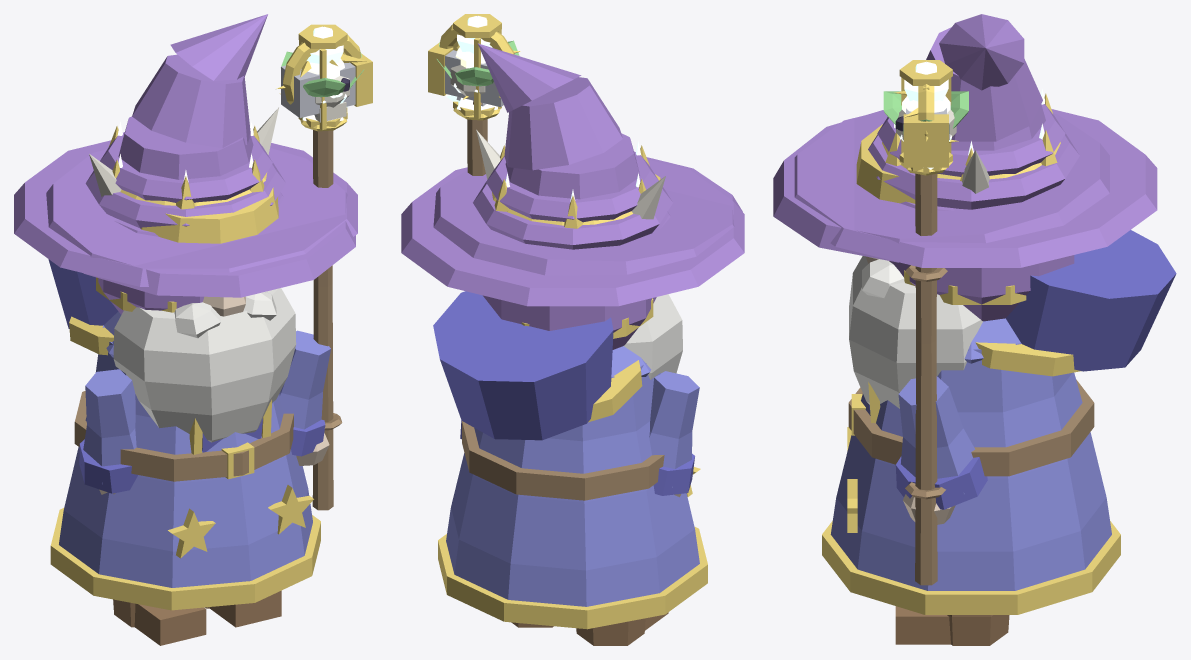
File: wizard.glb
The picture shows the model from 3 angles, left to right: view 1: azimuth 30°, elevation 25°; view 2: azimuth 150°, elevation 25°; view 3: azimuth 270°, elevation 25°; orthographic projection. The views are drawn at different scales.
Visible parts, largest first — view 1: Robe, Beard, Brim, HV_WideBrim, HatCone2, Hem, Belt, HatCone, Staff, ArmL, HV_Turban3, HatTip (+22 smaller); view 2: Robe, Collar, HV_WideBrim, Brim, HatCone2, Hem, Belt, HV_Turban2, HatCone, HV_Turban3, ArmL, HV_Hood (+14 smaller); view 3: Robe, HV_WideBrim, Collar, Brim, Beard, Hem, Staff, Belt, HV_Turban2, HatTip, HatCone2, HV_Hood (+16 smaller).
Part boxes in pixels (left/top/right/bottom): Robe: left=59, top=325, right=312, bottom=587; Beard: left=113, top=288, right=296, bottom=442; Brim: left=46, top=148, right=355, bottom=297; HV_WideBrim: left=14, top=140, right=357, bottom=286; HatCone2: left=132, top=54, right=250, bottom=147; Hem: left=50, top=508, right=320, bottom=610; Belt: left=74, top=390, right=293, bottom=481; HatCone: left=118, top=116, right=253, bottom=179; Staff: left=312, top=130, right=333, bottom=510; ArmL: left=81, top=369, right=136, bottom=484; HV_Turban3: left=100, top=132, right=272, bottom=202; HatTip: left=170, top=14, right=267, bottom=80; Robe: left=446, top=363, right=699, bottom=606; Collar: left=433, top=291, right=613, bottom=440; HV_WideBrim: left=401, top=160, right=744, bottom=306; Brim: left=433, top=157, right=742, bottom=275; HatCone2: left=504, top=77, right=622, bottom=170; Hem: left=438, top=527, right=707, bottom=629; Belt: left=462, top=421, right=664, bottom=500; HV_Turban2: left=473, top=181, right=672, bottom=249; HatCone: left=505, top=133, right=640, bottom=199; HV_Turban3: left=486, top=151, right=658, bottom=222; ArmL: left=649, top=371, right=699, bottom=487; HV_Hood: left=483, top=295, right=656, bottom=349; Robe: left=830, top=343, right=1111, bottom=590; HV_WideBrim: left=794, top=109, right=1157, bottom=267; Collar: left=1006, top=230, right=1176, bottom=371; Brim: left=773, top=110, right=1109, bottom=262; Beard: left=849, top=256, right=982, bottom=408; Hem: left=822, top=521, right=1120, bottom=614; Staff: left=915, top=173, right=937, bottom=585; Belt: left=848, top=379, right=1094, bottom=476; HV_Turban2: left=868, top=133, right=1079, bottom=209; HatTip: left=939, top=14, right=1024, bottom=90; HatCone2: left=926, top=27, right=1042, bottom=141; HV_Hood: left=889, top=255, right=1074, bottom=321.
Size of the model in its own units: 1.91 by 3.3 by 1.97.
